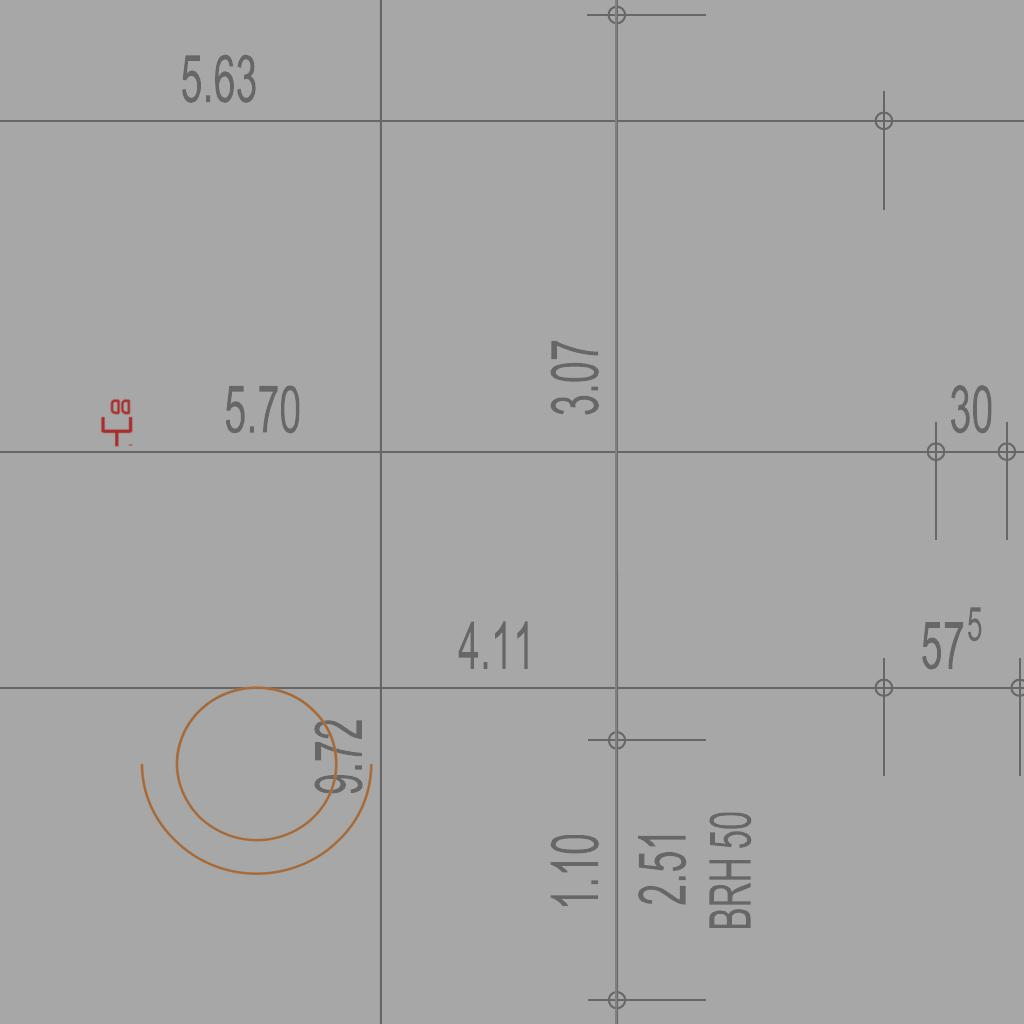Datenanschluss_zweifach: (99, 397, 133, 448)
Scheinwerfer_fuer_Alarmbeleuchtung: (131, 661, 395, 886)
